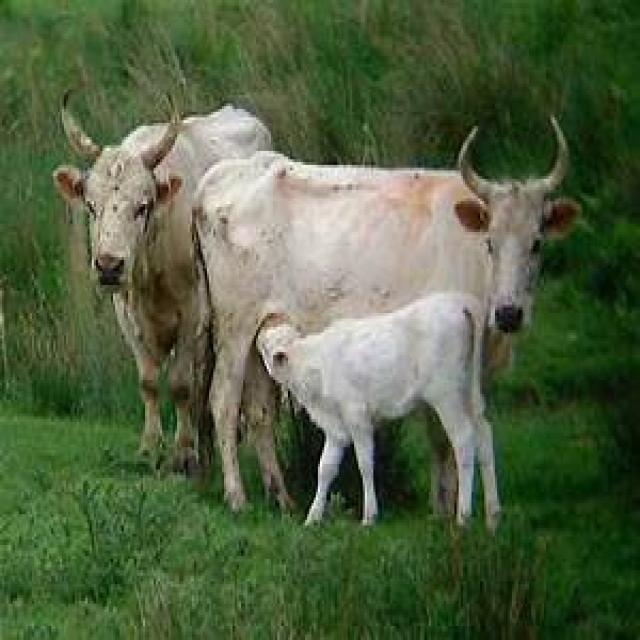cow: (195, 110, 574, 510), (57, 87, 275, 476), (259, 294, 499, 530)
